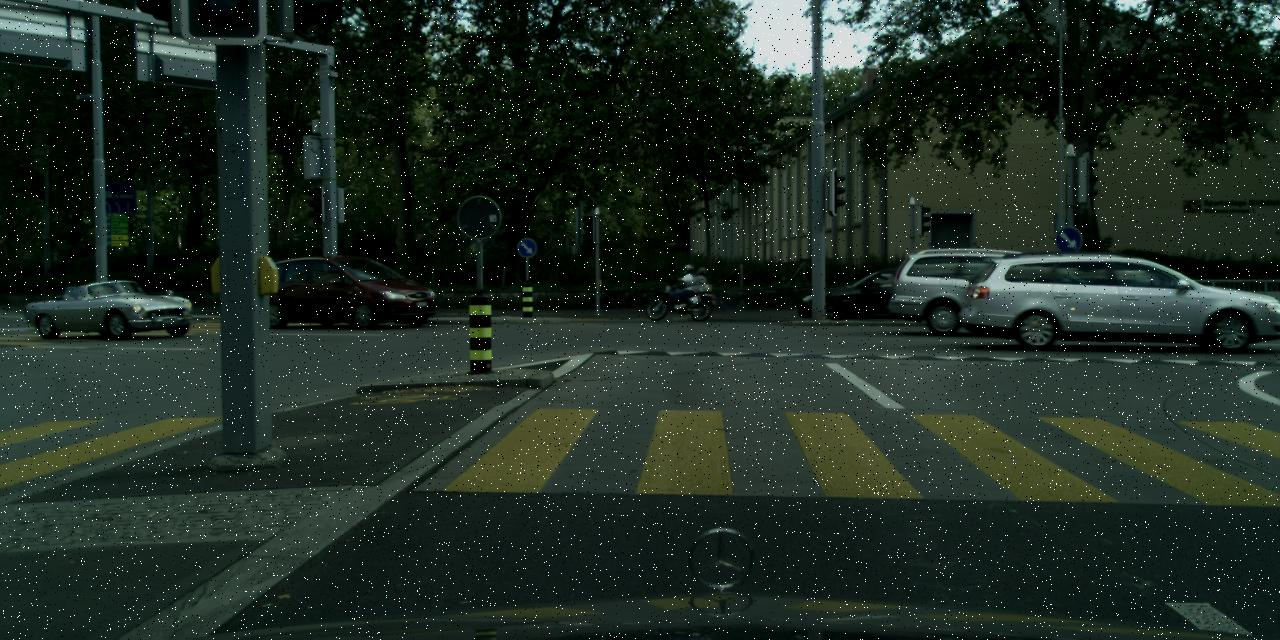ped: (676, 264, 694, 308)
